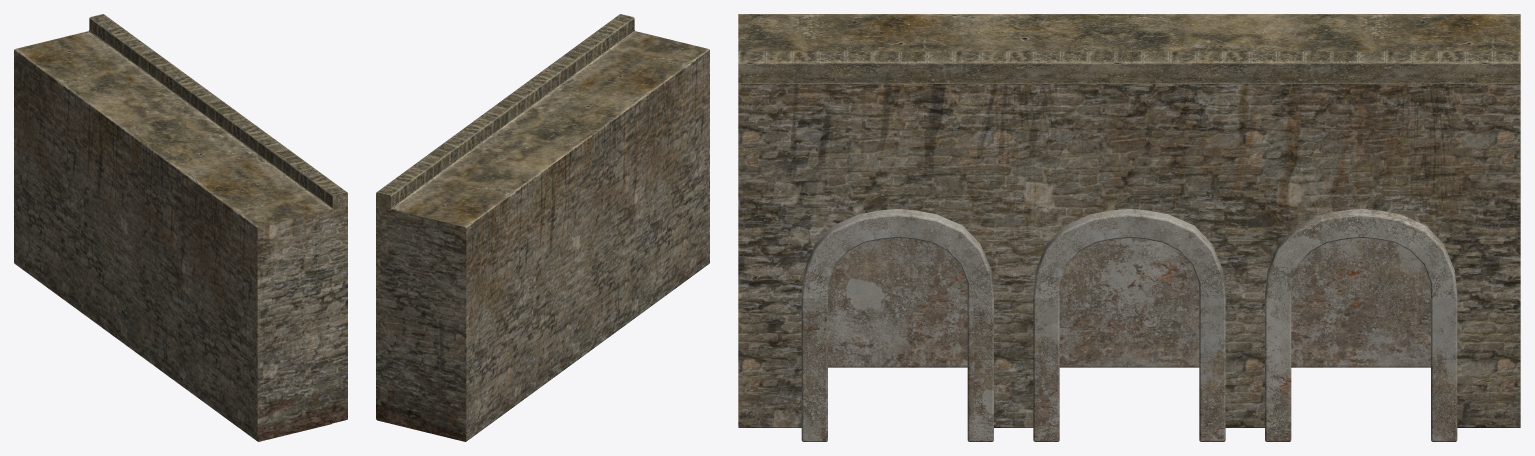
File: modular_fort_01_wall_walkway_straight_01.gltf
3 renders of one model, left to right at view 1: azimuth 30°, elevation 25°; view 2: azimuth 150°, elevation 25°; view 3: azimuth 270°, elevation 25°, orthographic. The views are drawn at different scales.
Visible parts, largest first — view 1: modular_fort_01_wall_walkway_straight_01__x; view 2: modular_fort_01_wall_walkway_straight_01__x; view 3: modular_fort_01_wall_walkway_straight_01__x.
Part boxes in pixels (x1,y1,x2,y2): modular_fort_01_wall_walkway_straight_01__x: (14, 14, 347, 441); modular_fort_01_wall_walkway_straight_01__x: (376, 14, 709, 441); modular_fort_01_wall_walkway_straight_01__x: (738, 14, 1520, 441).
Size of the model in its own units: 3.37 by 7.7 by 14.56.
Materials: 3 (3 with a texture image).
